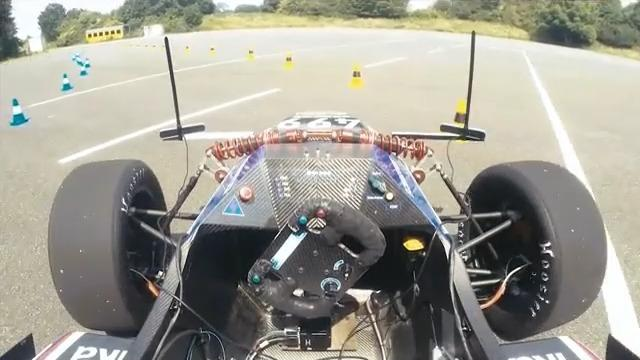blue_cone: (9, 97, 31, 127), (61, 73, 75, 92)
yellow_cone: (447, 99, 474, 144), (348, 63, 367, 89), (282, 52, 296, 70)
